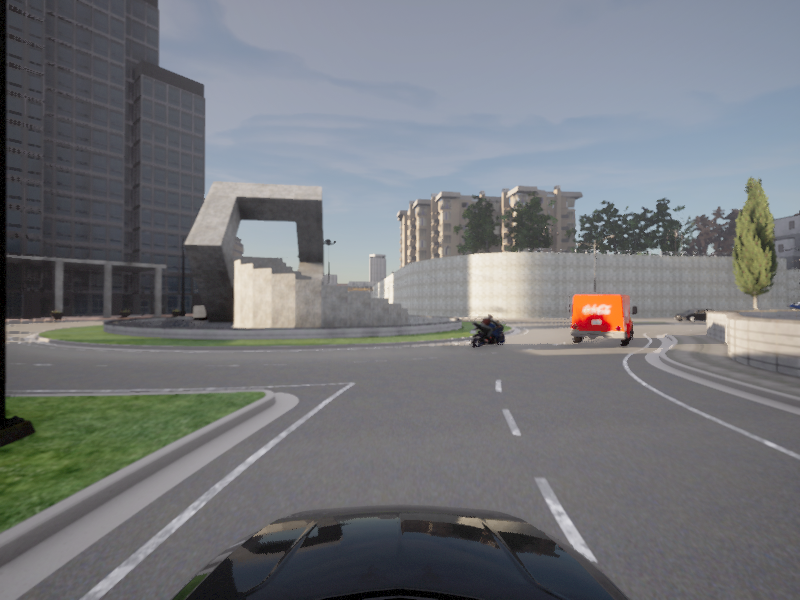vehicle: (566, 293, 639, 348), (465, 314, 512, 350)
